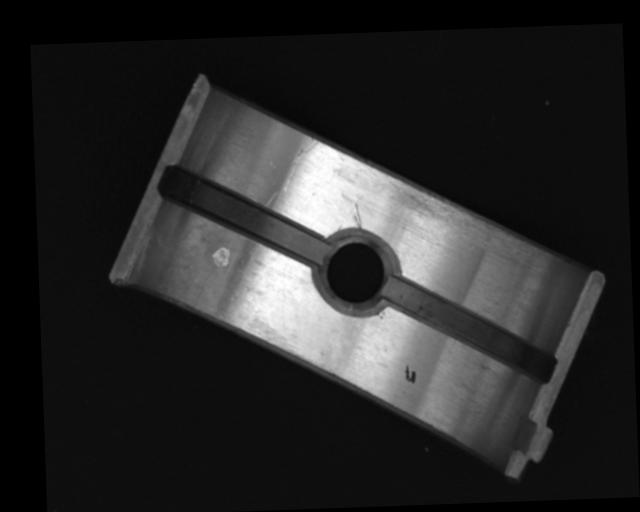blot: (403, 364, 416, 385)
bruise: (210, 246, 230, 269)
gap: (383, 273, 556, 385), (159, 164, 325, 266)
hole: (314, 233, 402, 316)
nick: (281, 136, 321, 194), (352, 202, 362, 230)
scratch: (392, 173, 548, 260)
